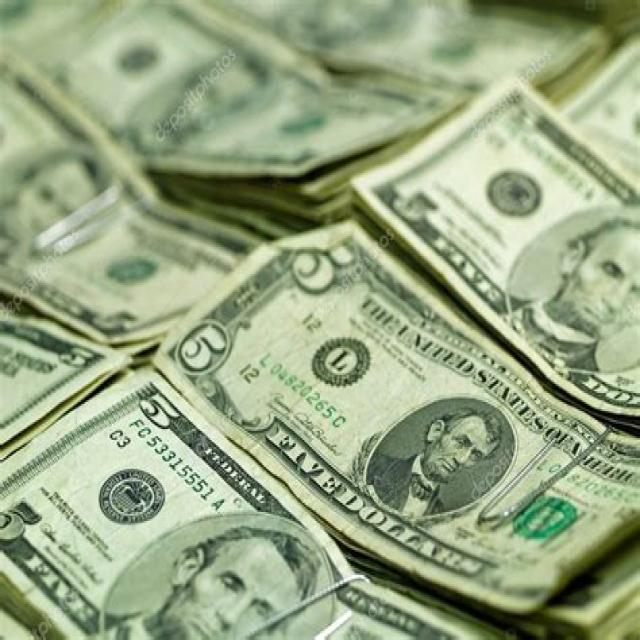Five: (0, 371, 490, 640), (354, 69, 640, 413)
